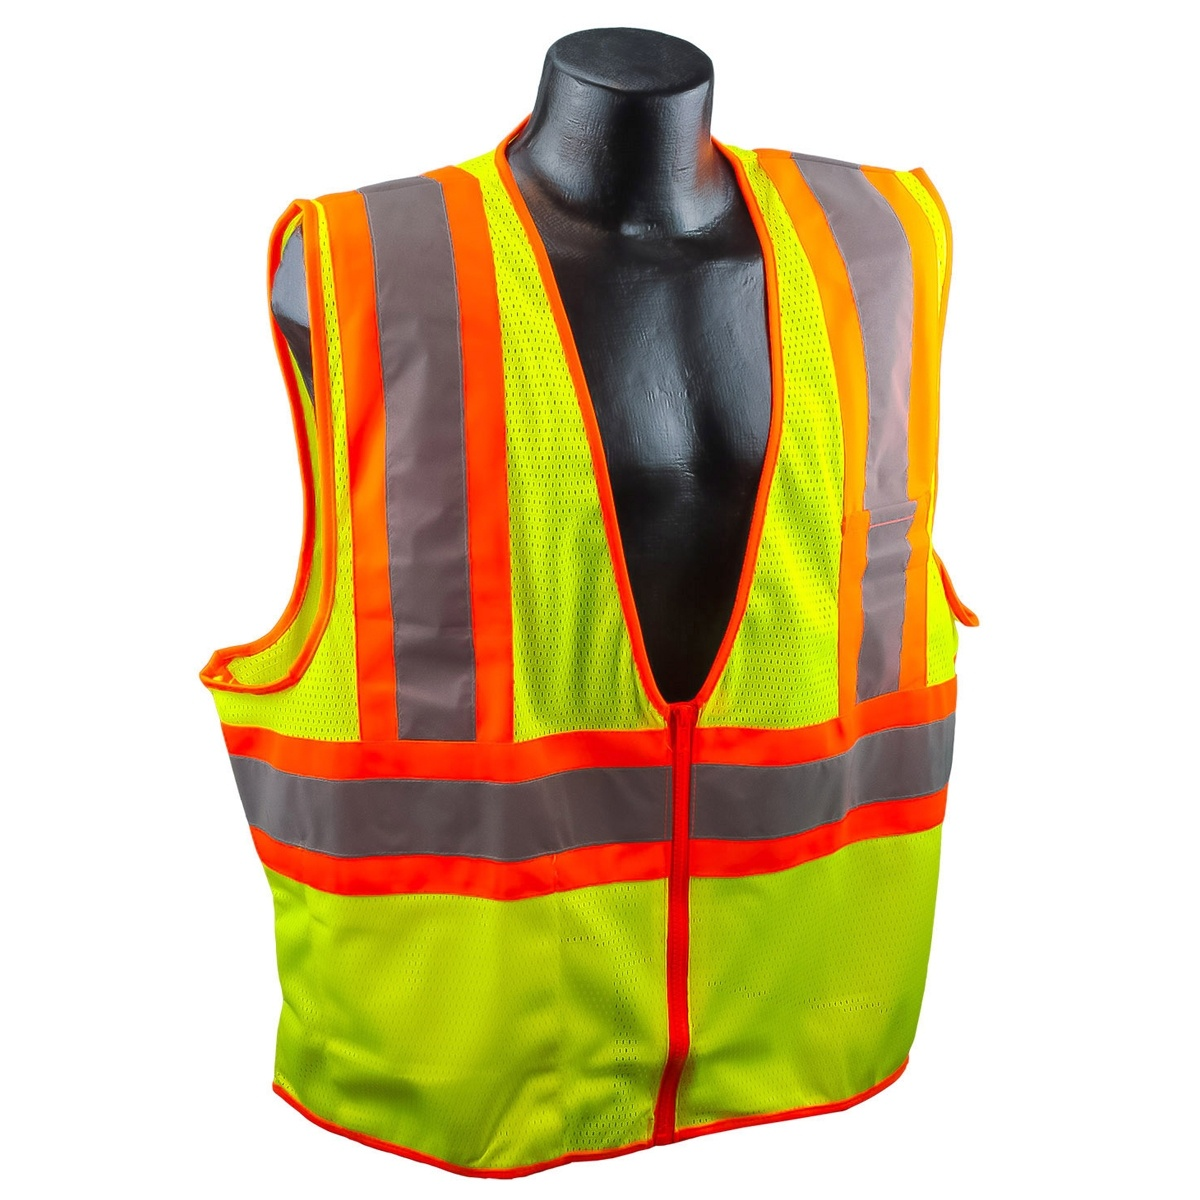safety vest: (216, 158, 967, 1162)
